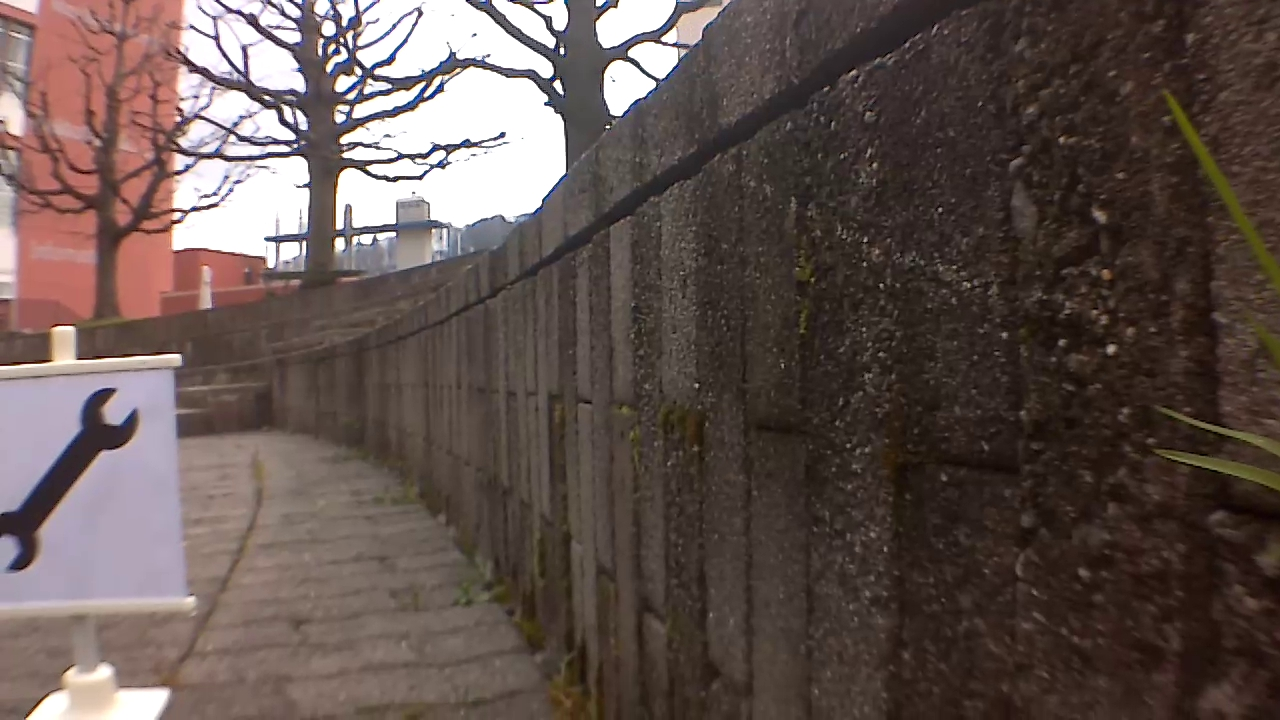wrench: (0, 384, 144, 577)
